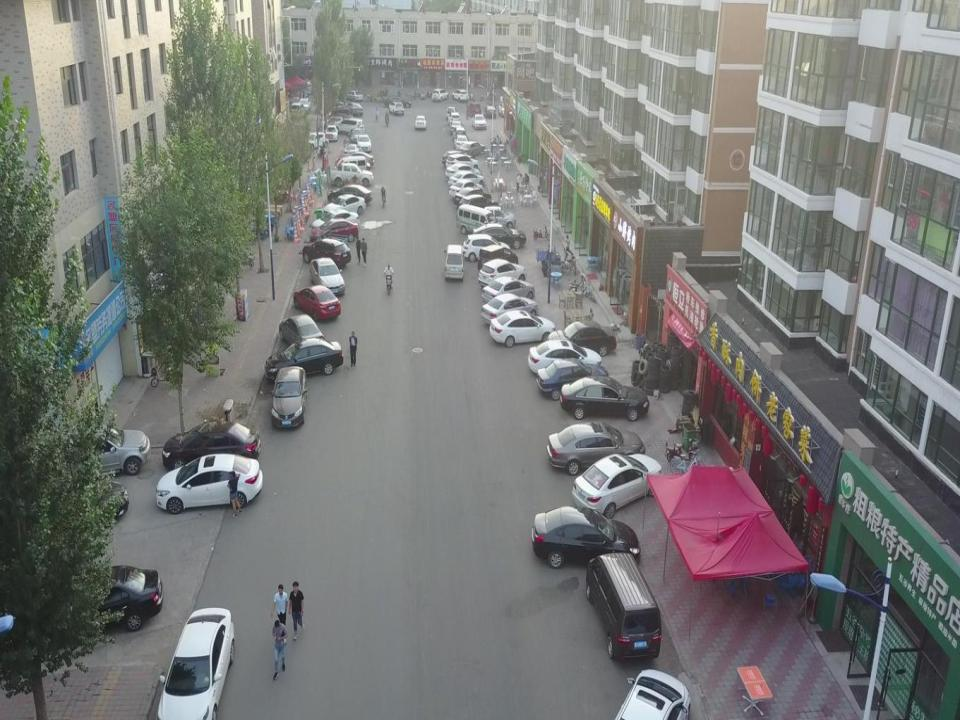car: (158, 606, 235, 720), (52, 566, 163, 634), (532, 507, 640, 568), (20, 477, 128, 538), (572, 453, 664, 518), (46, 424, 150, 481), (158, 457, 264, 509), (546, 424, 646, 478), (162, 420, 262, 472), (560, 376, 649, 422), (266, 337, 344, 382), (529, 339, 600, 382), (537, 362, 608, 402), (548, 320, 618, 360), (271, 368, 309, 427), (491, 312, 554, 344), (279, 315, 325, 357), (293, 285, 342, 321), (481, 294, 536, 326), (481, 275, 532, 308), (477, 259, 526, 293), (309, 218, 357, 252), (309, 256, 345, 300), (476, 222, 526, 252), (303, 239, 349, 270), (463, 234, 509, 264), (479, 247, 517, 273), (454, 184, 493, 209), (449, 170, 486, 190), (459, 195, 497, 214), (446, 162, 480, 183), (446, 153, 480, 174), (486, 205, 515, 229), (449, 179, 482, 199), (333, 118, 366, 138), (442, 151, 472, 172), (323, 107, 350, 130), (339, 153, 375, 170), (319, 115, 350, 134), (459, 140, 485, 158), (302, 132, 329, 148), (343, 144, 360, 165), (385, 95, 411, 108), (344, 89, 364, 104), (356, 136, 372, 154), (290, 103, 306, 121), (344, 102, 364, 116), (466, 102, 482, 119), (413, 115, 428, 133), (430, 86, 449, 100), (297, 96, 311, 115), (387, 100, 404, 115), (455, 132, 467, 152), (470, 114, 486, 129), (454, 134, 469, 150), (451, 88, 468, 102), (325, 124, 337, 143), (454, 126, 466, 143), (450, 119, 462, 136), (483, 106, 497, 120), (498, 100, 510, 116), (447, 104, 457, 122), (352, 127, 362, 144), (450, 111, 460, 126)
van: (585, 554, 662, 661), (456, 204, 496, 238), (442, 245, 466, 283), (334, 157, 366, 181)
